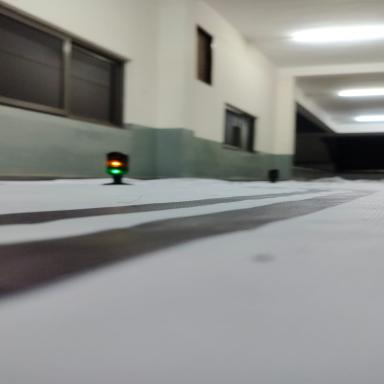yellow: (91, 145, 146, 191)
